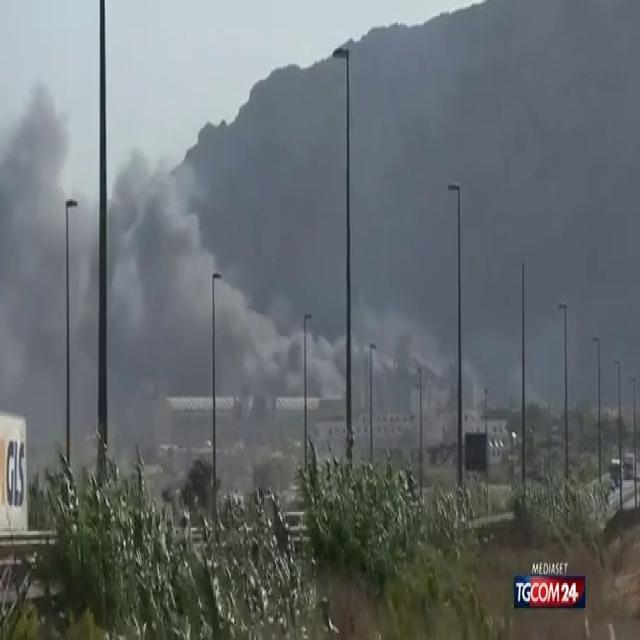Smoke: (0, 67, 238, 502)
